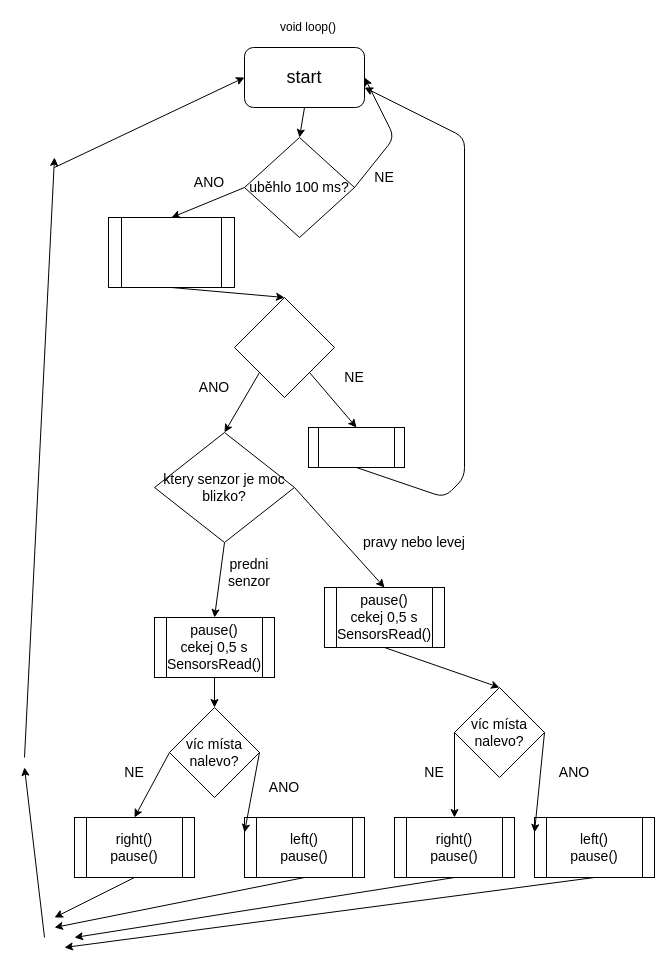
This 672x973 diagram has some shape labels left out. The shapes that lost their labels are listed below. From the top down, each one's centre as x and y in pixels, then its label:
At (171,252): "-resetuj stopky -SensorsRead()".
At (284,347): "trigger?".
At (356,447): "go()".
